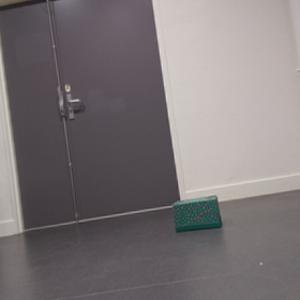small: (173, 195, 224, 232)
